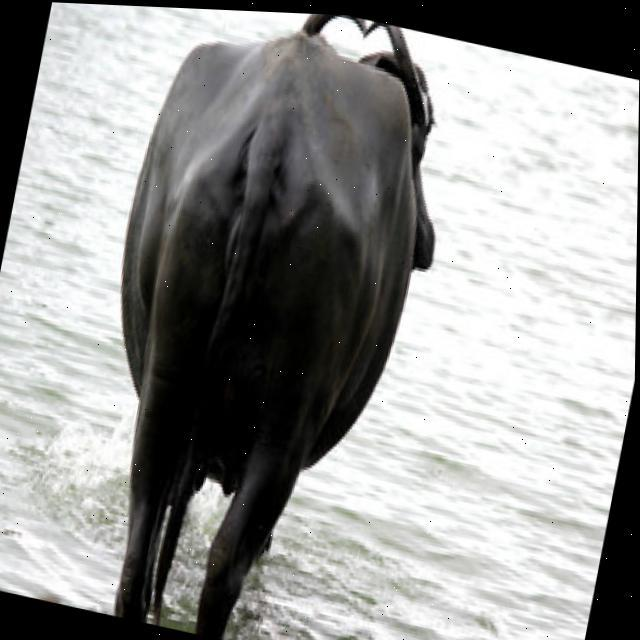Buffalo: (50, 3, 475, 640)
